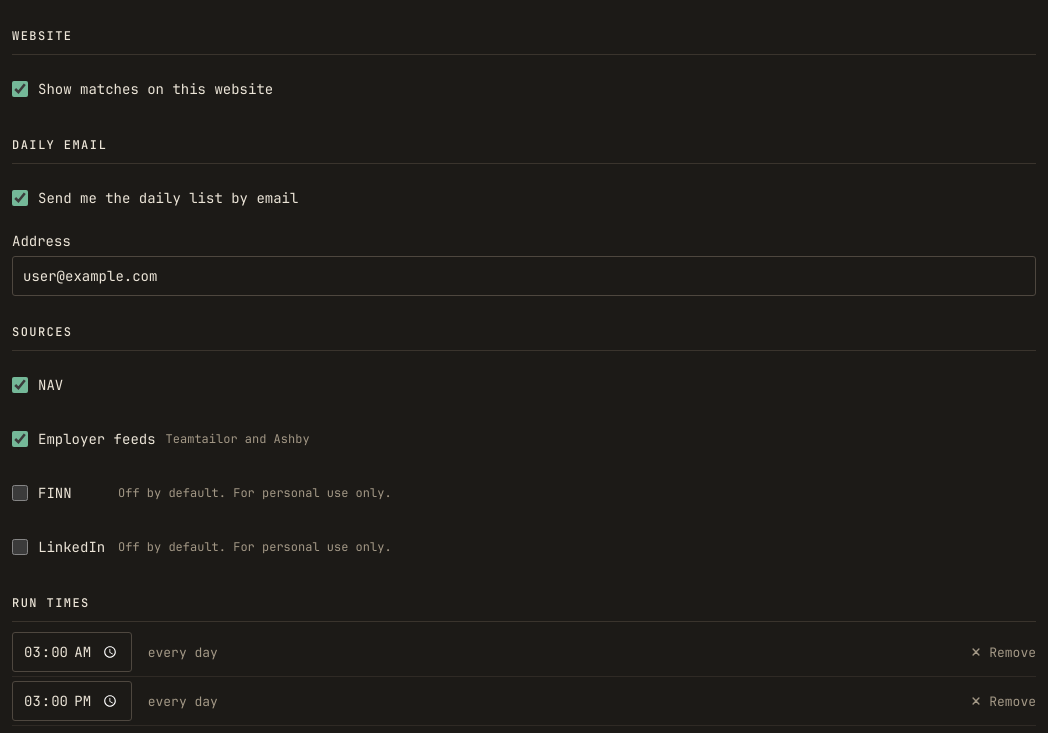
DeliverySettings › should disable Add a run time while the run times have an error
Step 1. Replace the text in the time field named "Run time 1" with "14:00" → (72, 652), box [12,632,132,672]
(page scrolled)
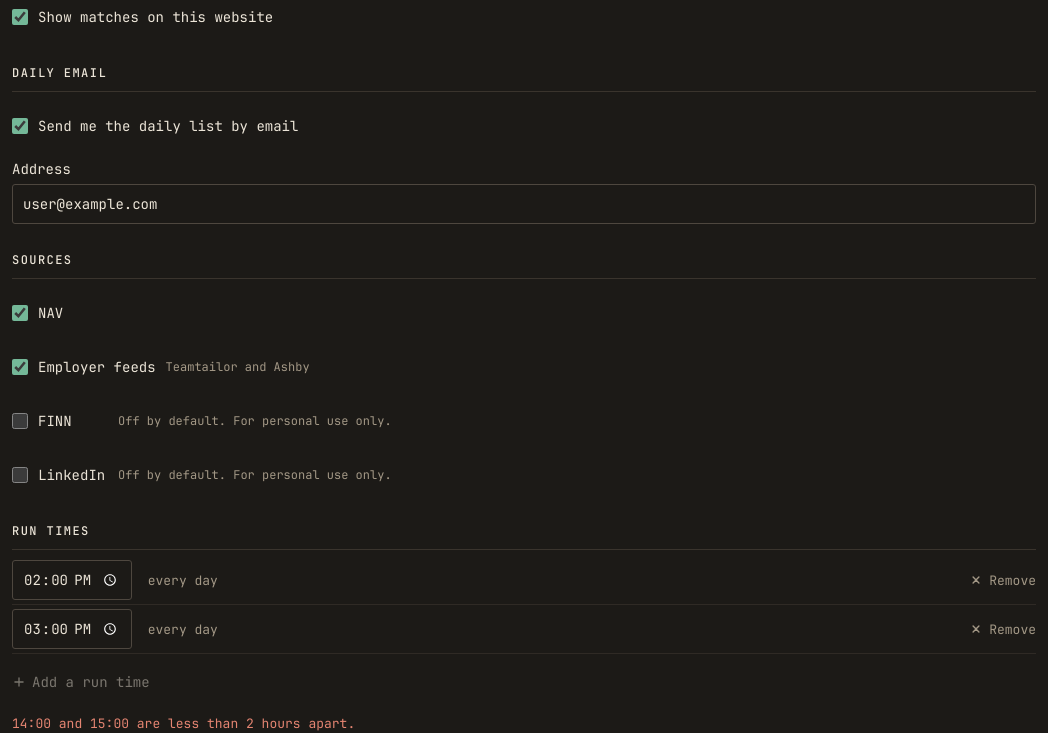
Result: the button "Add a run time" is disabled at [12,660,150,704]
